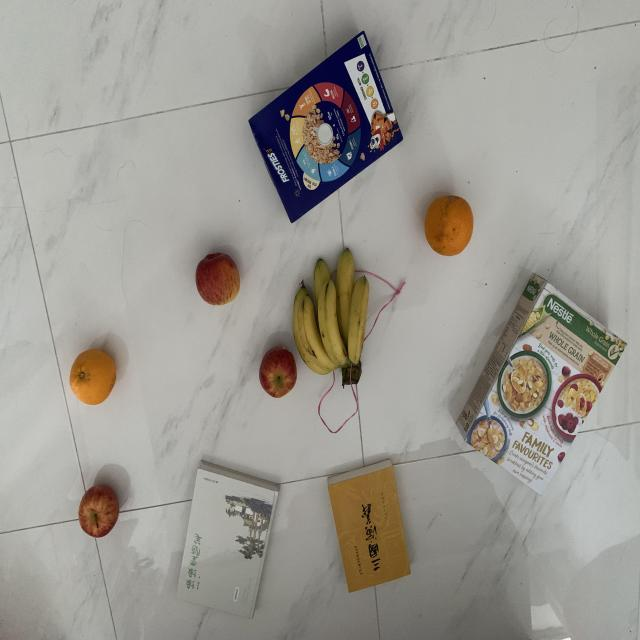Apple: (192, 249, 245, 310), (77, 483, 122, 541), (256, 344, 297, 402)
Banana: (290, 242, 371, 389)
Book: (171, 460, 280, 622), (326, 457, 414, 596)
Cerealbox: (452, 272, 628, 501), (243, 26, 420, 225)
Orange: (420, 195, 476, 259), (67, 345, 121, 409)
